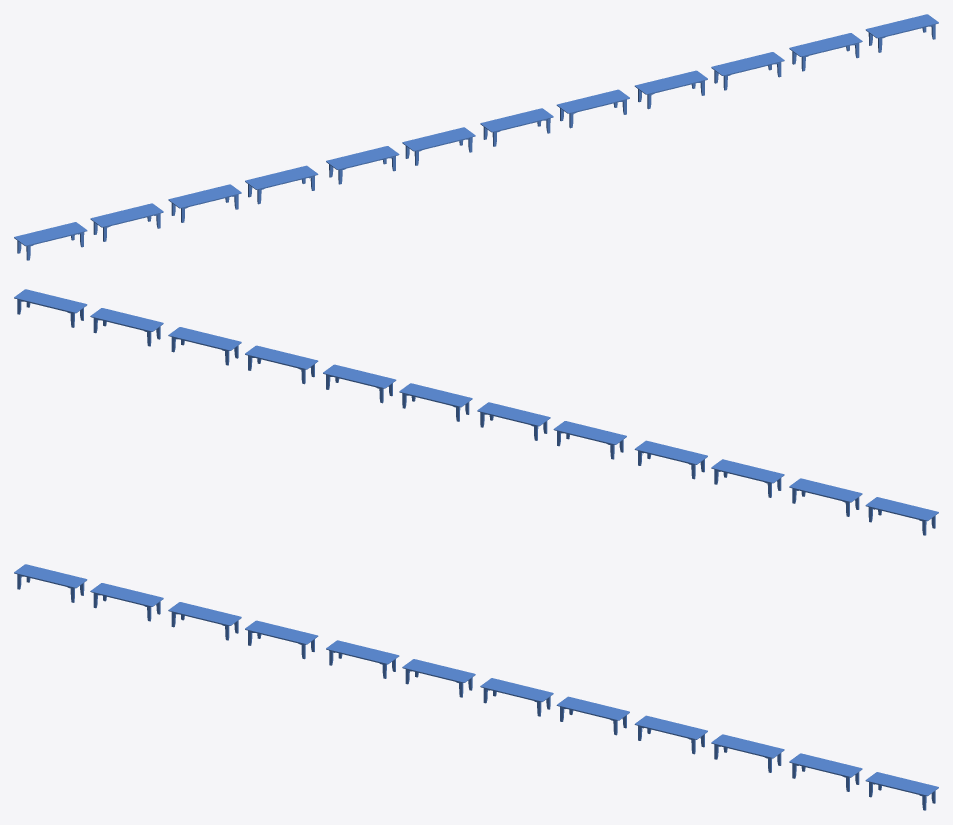
Rendered from boothNorth.glb.
3 views of the same model, one above another, from view 1: azimuth 30°, elevation 25°; view 2: azimuth 150°, elevation 25°; view 3: azimuth 330°, elevation 25° (orthographic).
Visible parts, largest first — view 1: old_table.014; view 2: old_table.014; view 3: old_table.014.
Boxes of the visible parts, left/top/right/bottom form: old_table.014: left=14, top=14, right=938, bottom=260; old_table.014: left=14, top=289, right=938, bottom=535; old_table.014: left=14, top=564, right=938, bottom=810.
Bounding box in the file's own units: 34.12 × 0.5846 × 0.7613.
